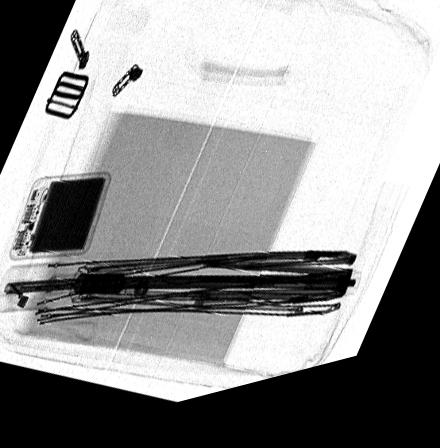Powerbank: (9, 176, 111, 261)
